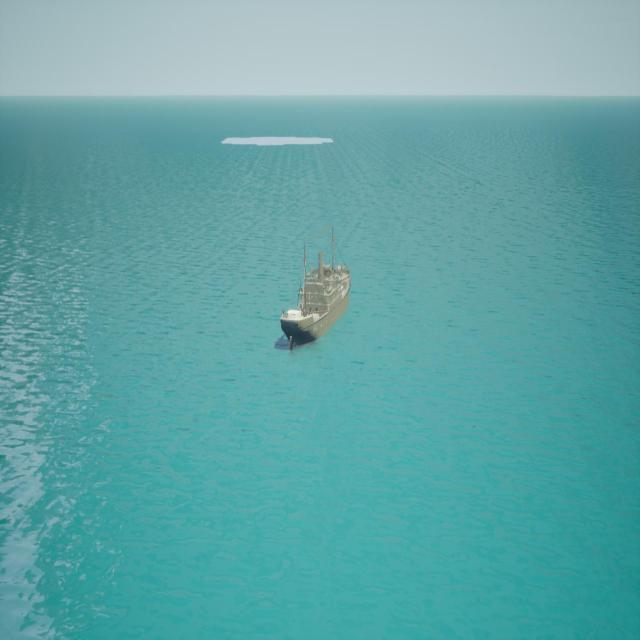fishing ship: (282, 224, 354, 354)
